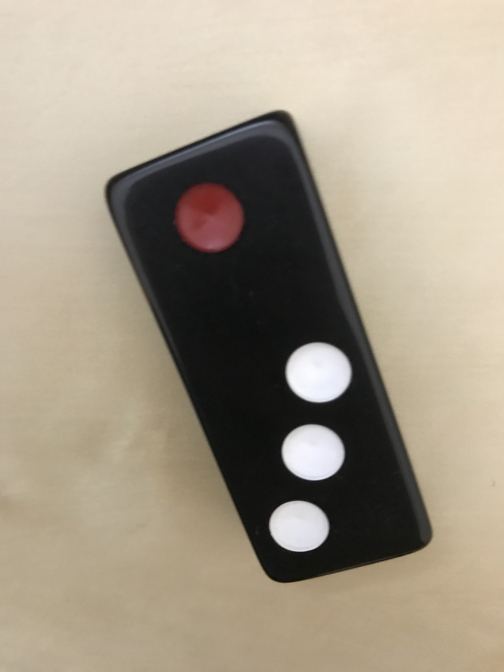goose: (107, 111, 435, 585)
